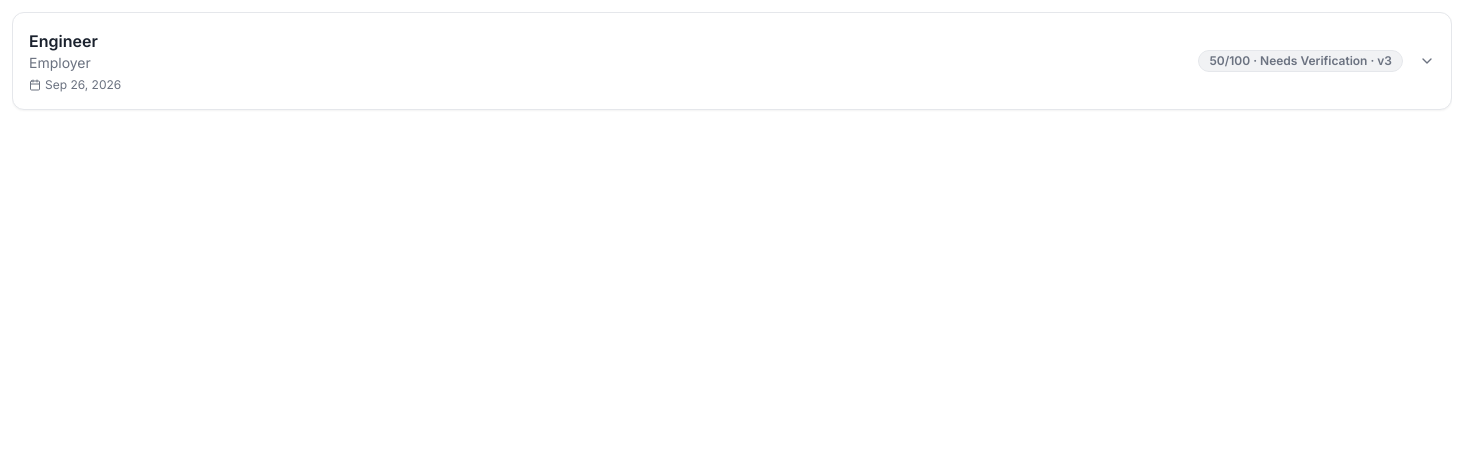
saved investigation display › loads persisted JSON into the expanded tracker card and preserves legacy rows
The width and height of the screenshot is (1464, 468).
What coordinates should you click on to do the following:
click the button "Engineer Employer"
I would click on:
 (63, 41)
Its box is 13,13 -> 1451,109.
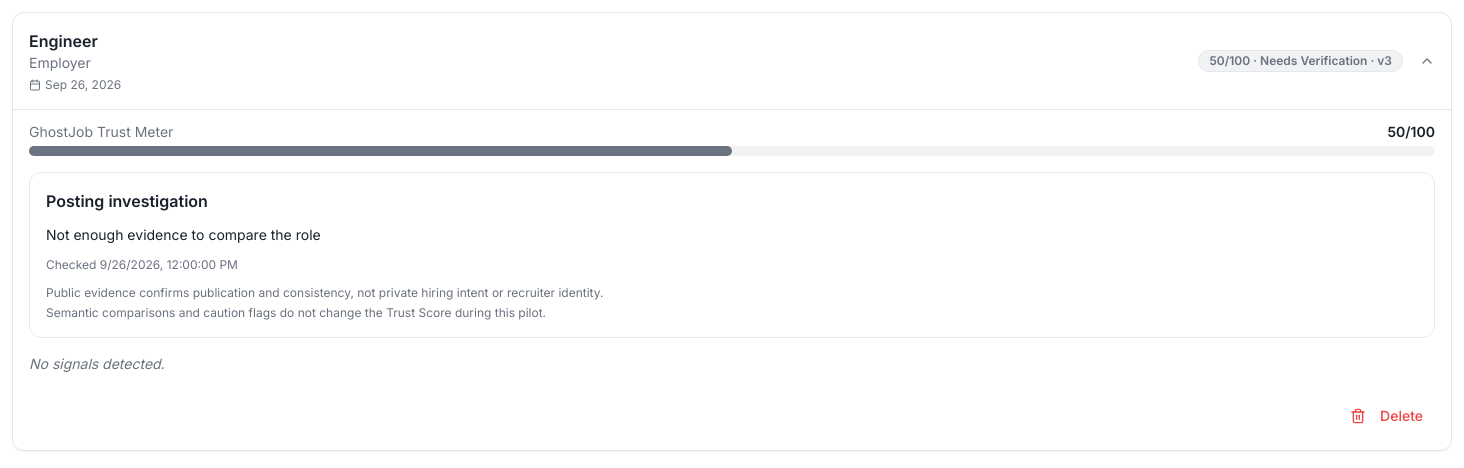
Check: the element "Posting investigation" is shown, box 29,172 -> 1435,338
Check: the text "Not enough evidence to compare the role" is shown, box 46,226 -> 321,243
